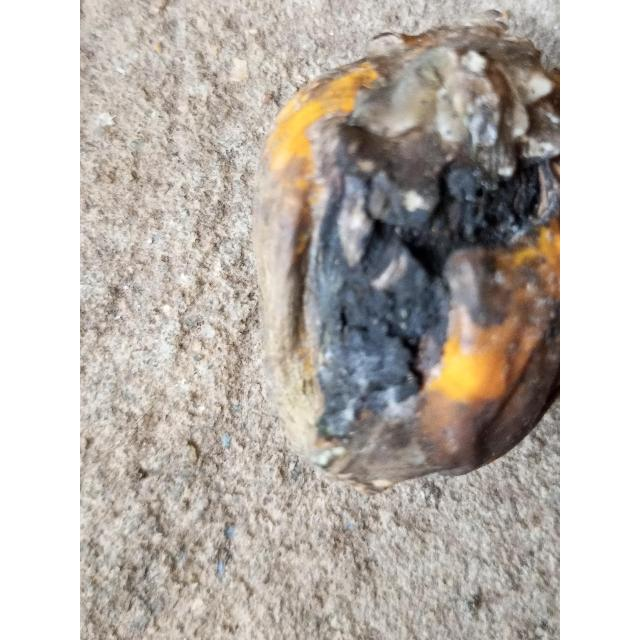damaged: (251, 21, 560, 496)
